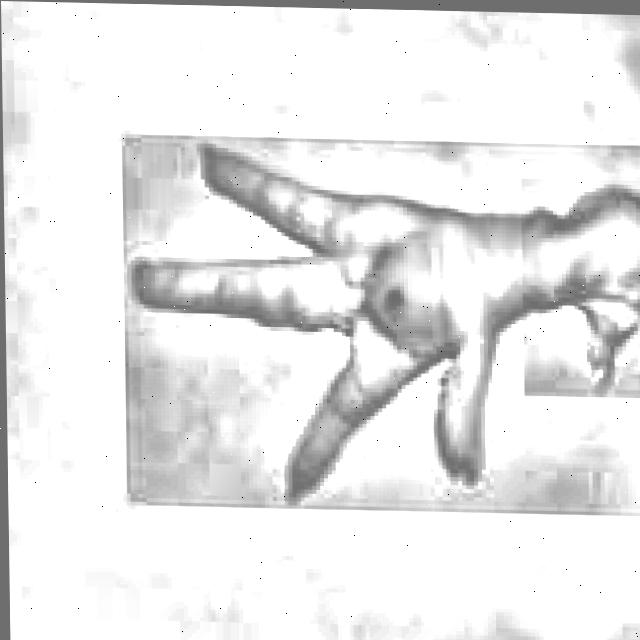Bumble foot: (128, 140, 640, 513)
